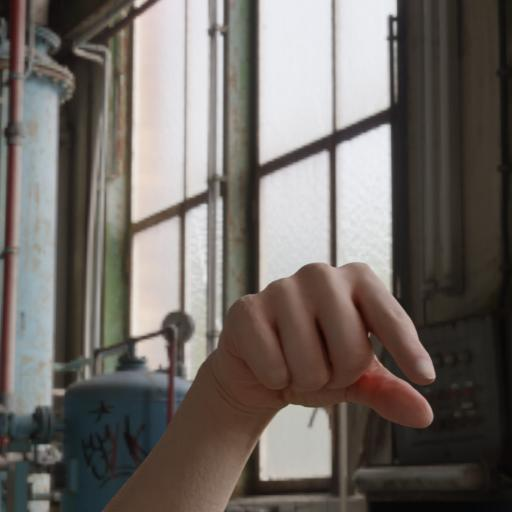Q: (209, 252, 444, 440)
